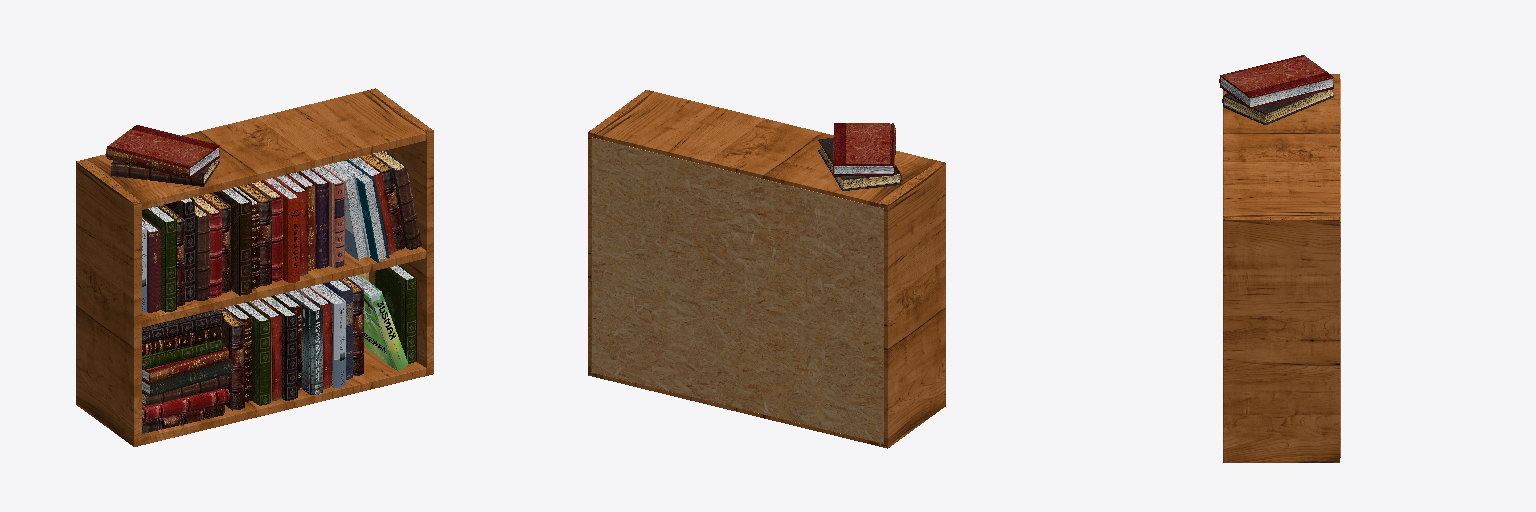
The picture shows the model from 3 angles: view 1: azimuth 30°, elevation 25°; view 2: azimuth 150°, elevation 25°; view 3: azimuth 270°, elevation 25°; orthographic projection.
Visible parts, largest first — view 1: Books, Bookshelf; view 2: Bookshelf, Books; view 3: Bookshelf, Books.
Boxes of the visible parts, x1=… form: Books: x1=106, y1=125, x2=421, y2=433; Bookshelf: x1=76, y1=88, x2=433, y2=446; Bookshelf: x1=588, y1=90, x2=945, y2=448; Books: x1=818, y1=123, x2=901, y2=190; Bookshelf: x1=1223, y1=74, x2=1340, y2=462; Books: x1=1219, y1=55, x2=1333, y2=124.
Size of the model in its own units: 0.4002 by 0.3418 by 0.1403.
21 materials, 21 textured.